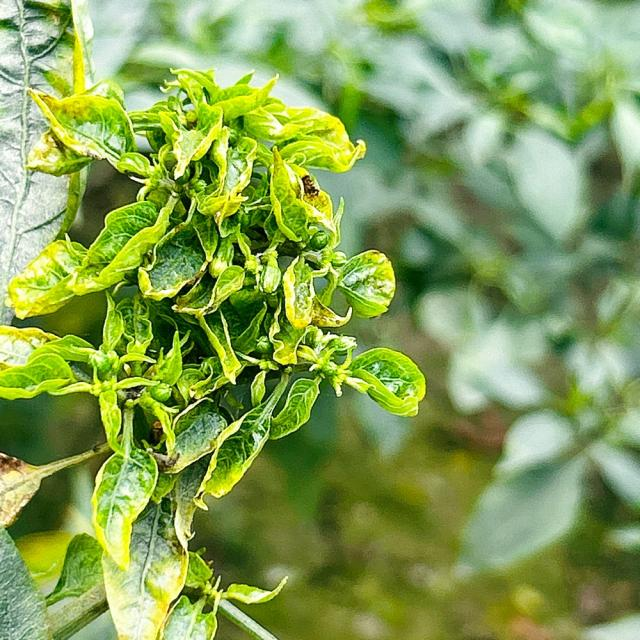Chilli_Leaf_Curl: (1, 57, 427, 637)
